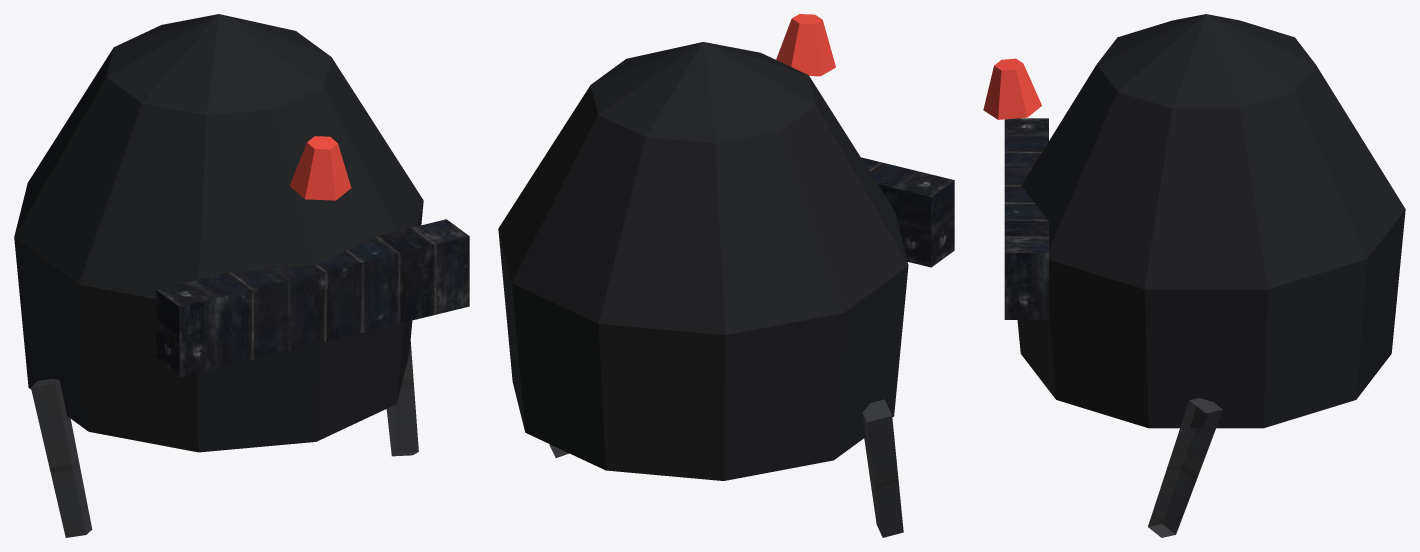
The model's file is eq_present_3_head.glb.
The picture shows the model from 3 angles, left to right: view 1: azimuth 30°, elevation 25°; view 2: azimuth 150°, elevation 25°; view 3: azimuth 270°, elevation 25°; orthographic projection. The views are drawn at different scales.
Parts seen in each view (by area): view 1: eq_present_3_head; view 2: eq_present_3_head; view 3: eq_present_3_head.
Part boxes in pixels (x1,y1,x2,y2): eq_present_3_head: (14,14,469,537); eq_present_3_head: (498,14,954,537); eq_present_3_head: (983,14,1405,537).
Bounding box in the file's own units: 0.2804 × 0.3323 × 0.2859.
4 materials, 4 textured.
